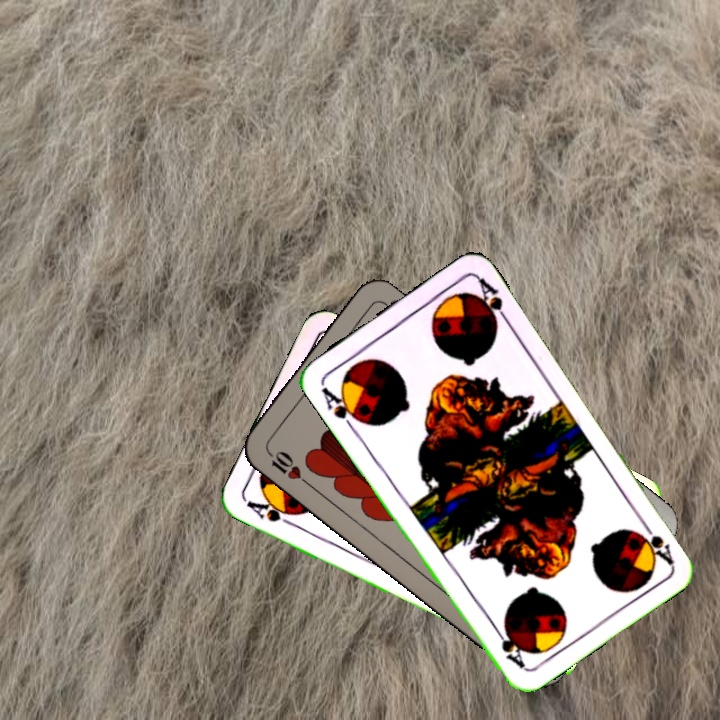H10: (262, 445, 312, 488)
SA: (317, 383, 366, 434), (635, 514, 676, 567), (239, 493, 298, 528)
